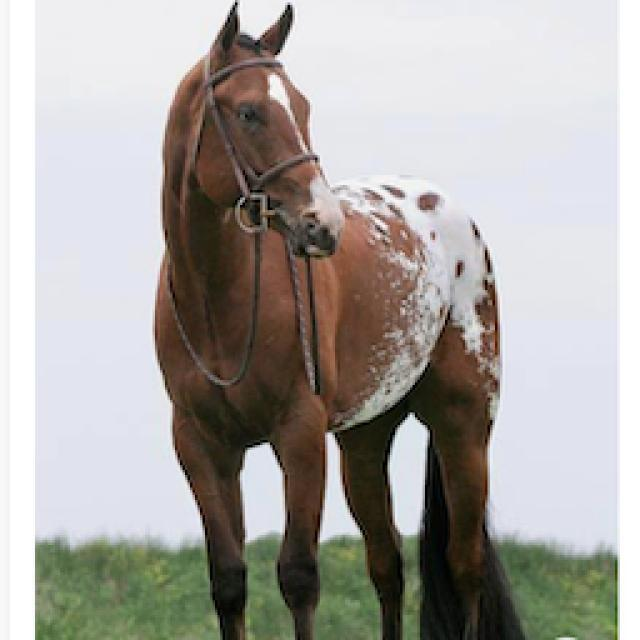Horse: (142, 0, 550, 638)
